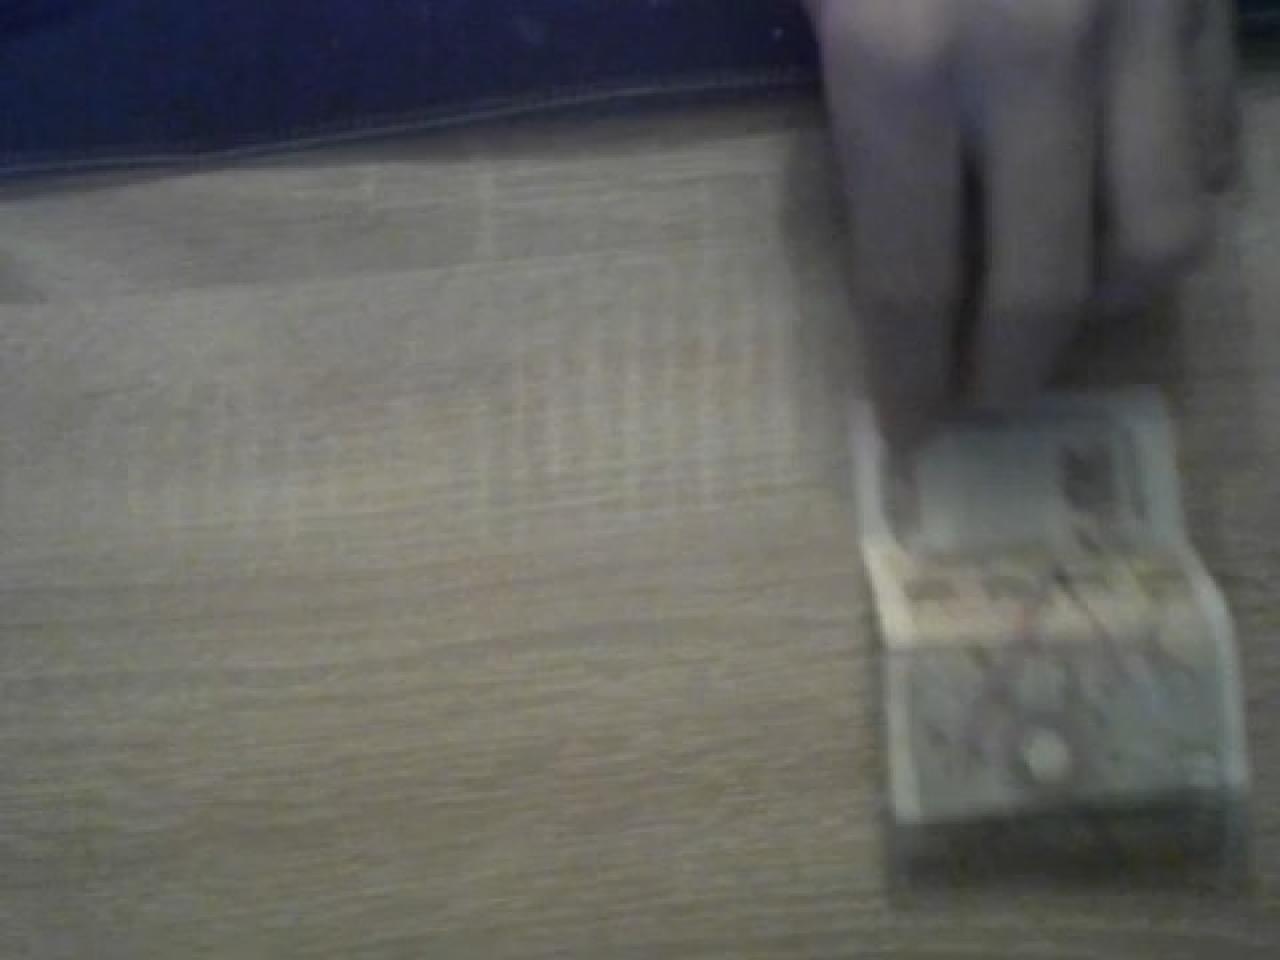10leva: (859, 384, 1253, 909)
